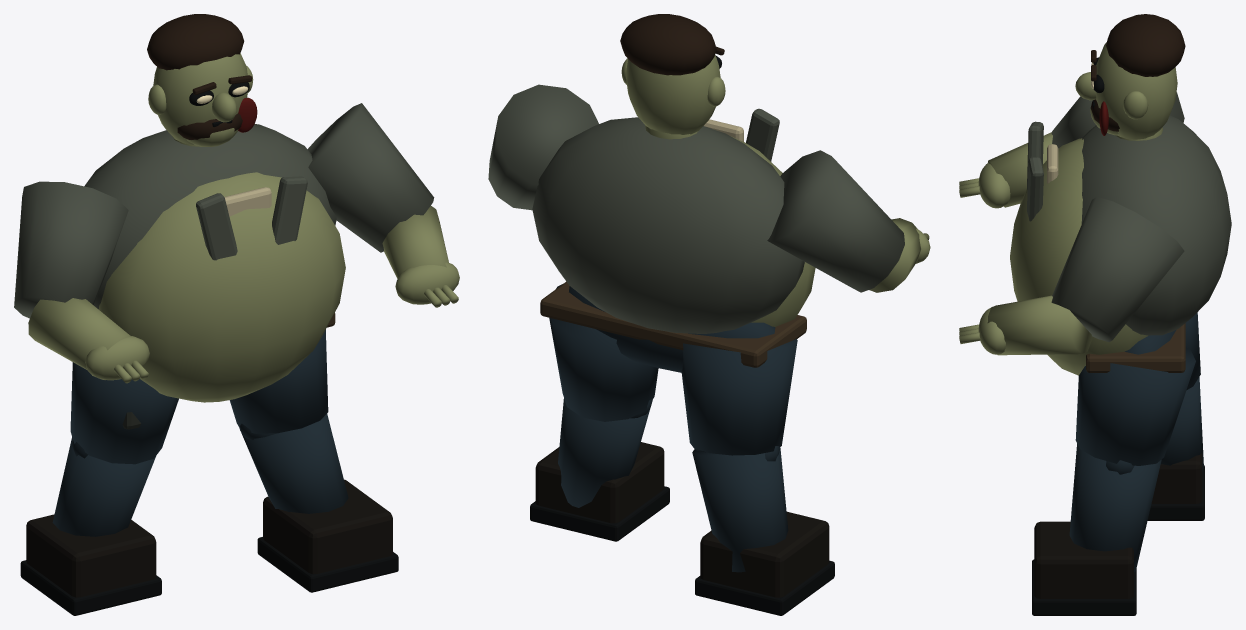
File: fatty.glb
3 renders of one model, left to right at view 1: azimuth 30°, elevation 25°; view 2: azimuth 150°, elevation 25°; view 3: azimuth 270°, elevation 25°, orthographic. The views are drawn at different scales.
Parts seen in each view (by area): view 1: fatty; view 2: fatty; view 3: fatty.
Part boxes in pixels (bbox=[...]): fatty: bbox=[14, 14, 459, 615]; fatty: bbox=[488, 14, 930, 615]; fatty: bbox=[959, 14, 1231, 615].
Size of the model in its own units: 0.8789 by 1.11 by 0.5198.
